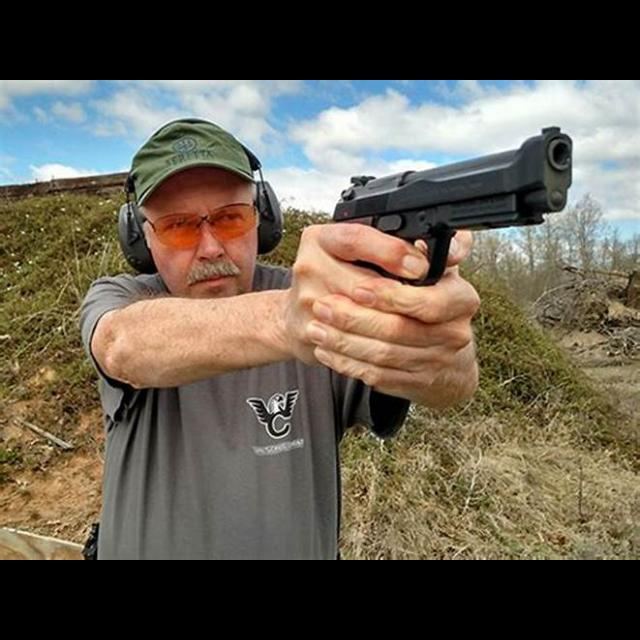handgun: (324, 122, 576, 288)
